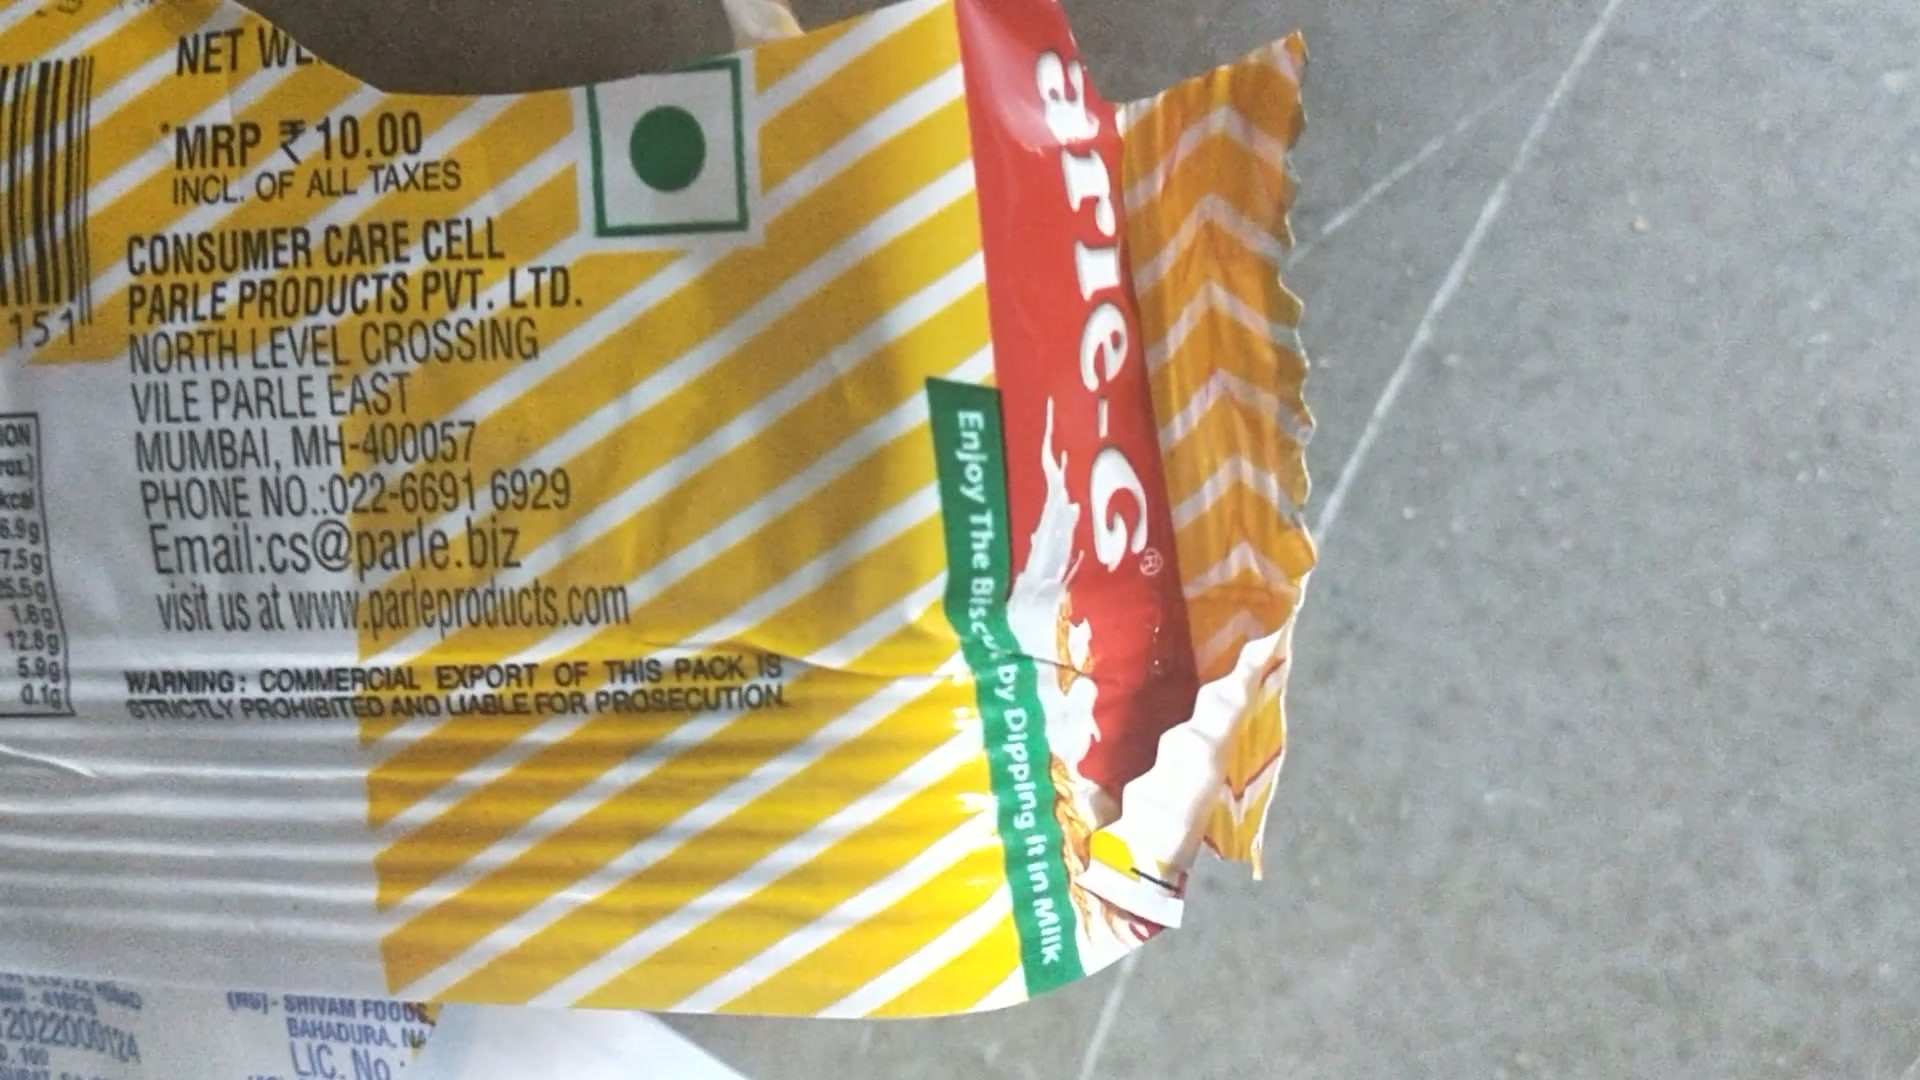parle-g-b: (62, 1, 1257, 986)
